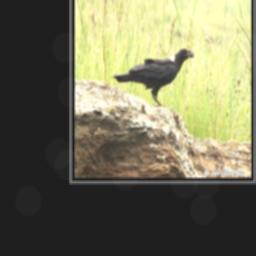Crow: (112, 48, 195, 107)
